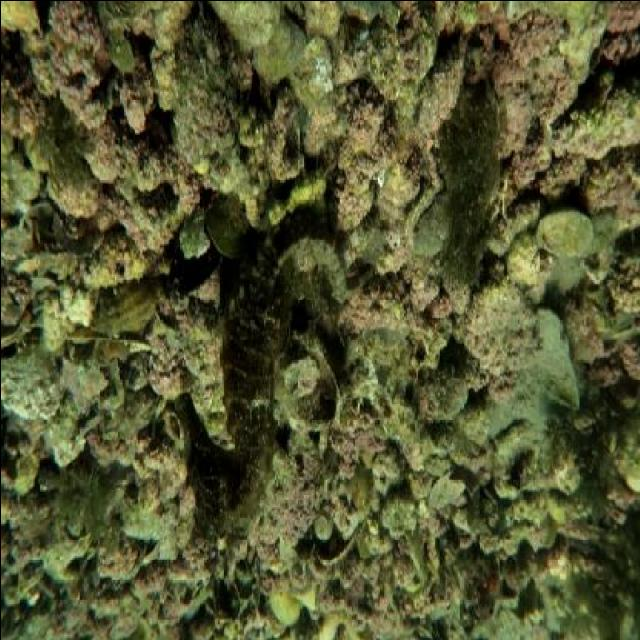Guttu: (164, 382, 260, 556)
